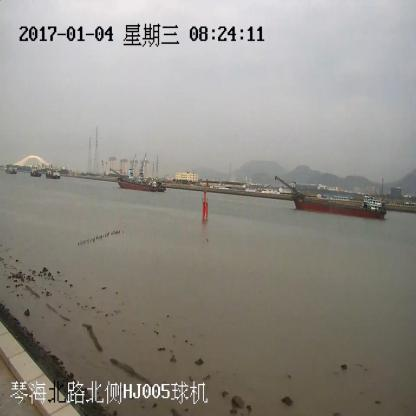Bulk Carrier: (275, 176, 386, 219), (110, 169, 165, 191)
